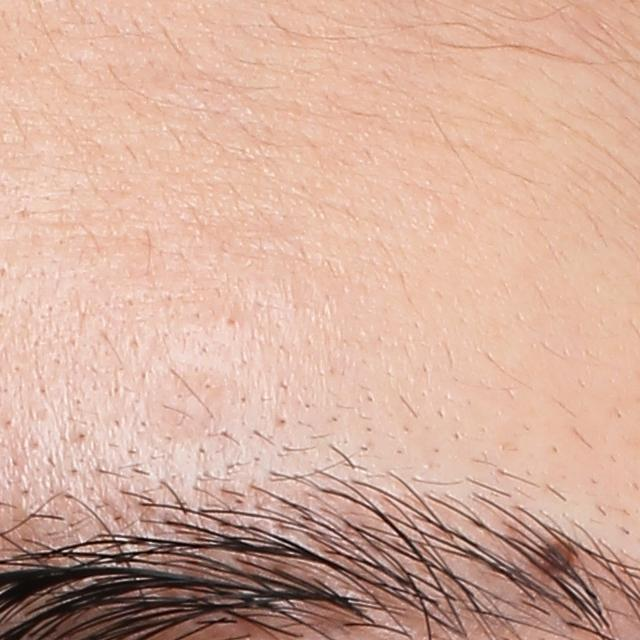comedo: (221, 313, 237, 329)
nevus: (540, 531, 571, 581)
